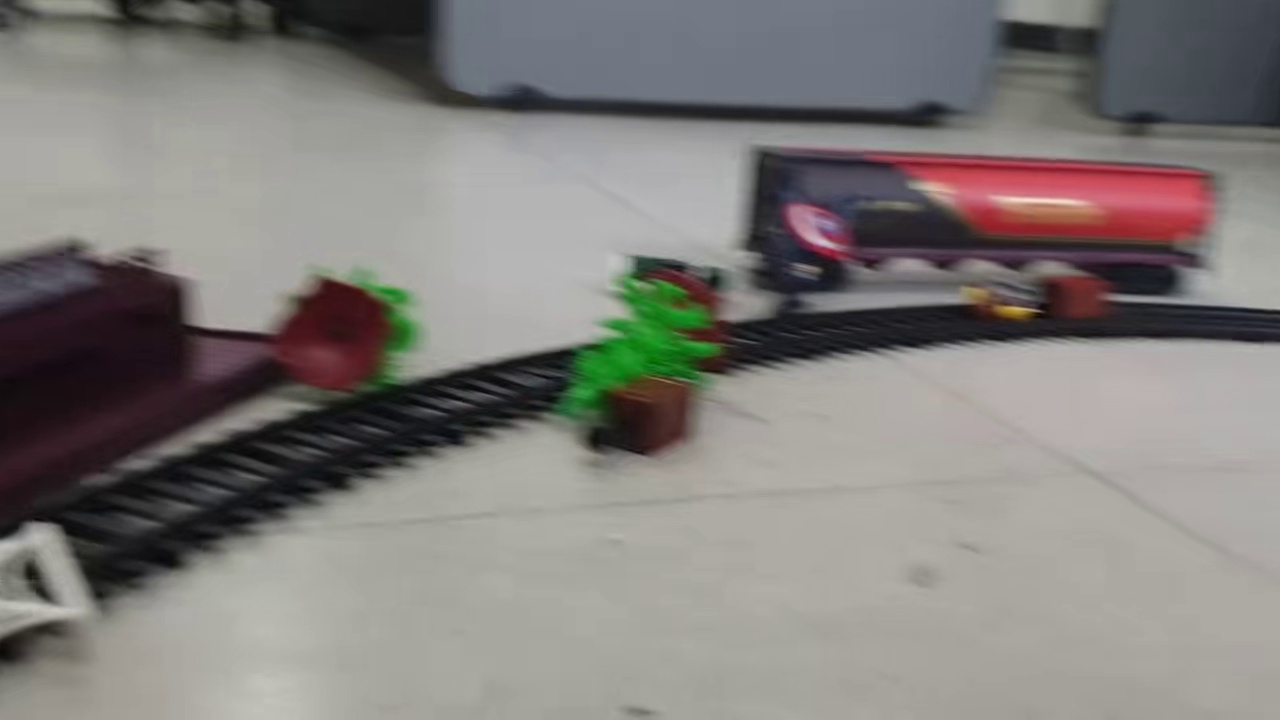box: (578, 373, 694, 456), (1044, 272, 1102, 320)
people: (754, 201, 877, 293), (955, 274, 1049, 324)
tree: (549, 274, 727, 422), (275, 265, 428, 398)
web: (1, 518, 100, 641)
